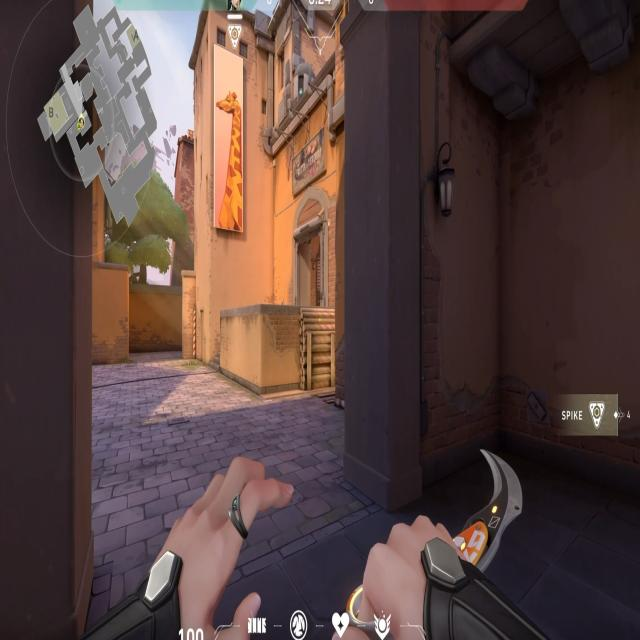B_Cubby: (251, 289, 349, 416)
